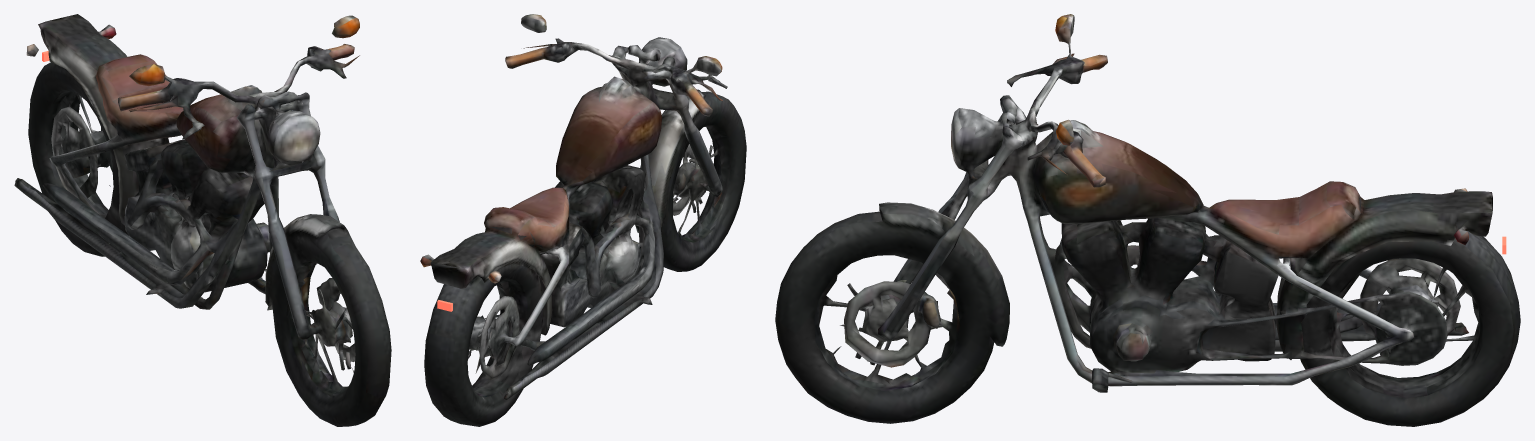
File: moto-bobber.glb
3 views of the same model, side by side, from view 1: azimuth 30°, elevation 25°; view 2: azimuth 150°, elevation 25°; view 3: azimuth 270°, elevation 25° (orthographic). The views are drawn at different scales.
Visible parts, largest first — view 1: body, wheel_F, wheel_R, head; view 2: body, wheel_R, wheel_F; view 3: body, wheel_R, wheel_F.
Part boxes in pixels (x1,y1,x2,y2): body: (14,14,379,310); wheel_F: (265,233,391,426); wheel_R: (28,62,128,256); head: (275,120,320,161); body: (420,14,732,399); wheel_R: (424,254,548,426); wheel_F: (661,101,746,271); body: (797,14,1513,395); wheel_R: (1300,237,1520,426); wheel_F: (775,226,998,423).
Bounding box in the file's own units: 0.8813 × 1.15 × 2.2.
Materials: 2 (1 with a texture image).
